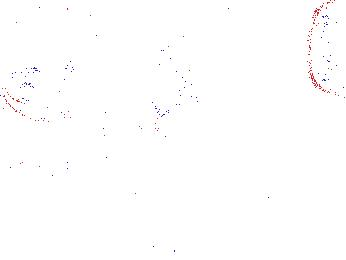moon jellyfish: (34, 1, 175, 107), (110, 41, 178, 131), (1, 71, 88, 122), (307, 1, 346, 98)
